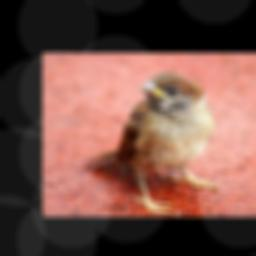Sparrow: (85, 70, 224, 215)
